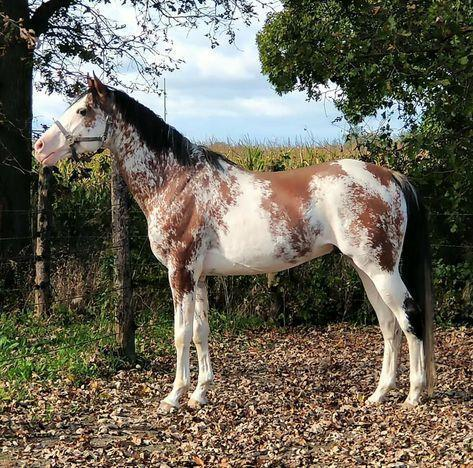horse: (33, 70, 436, 415)
